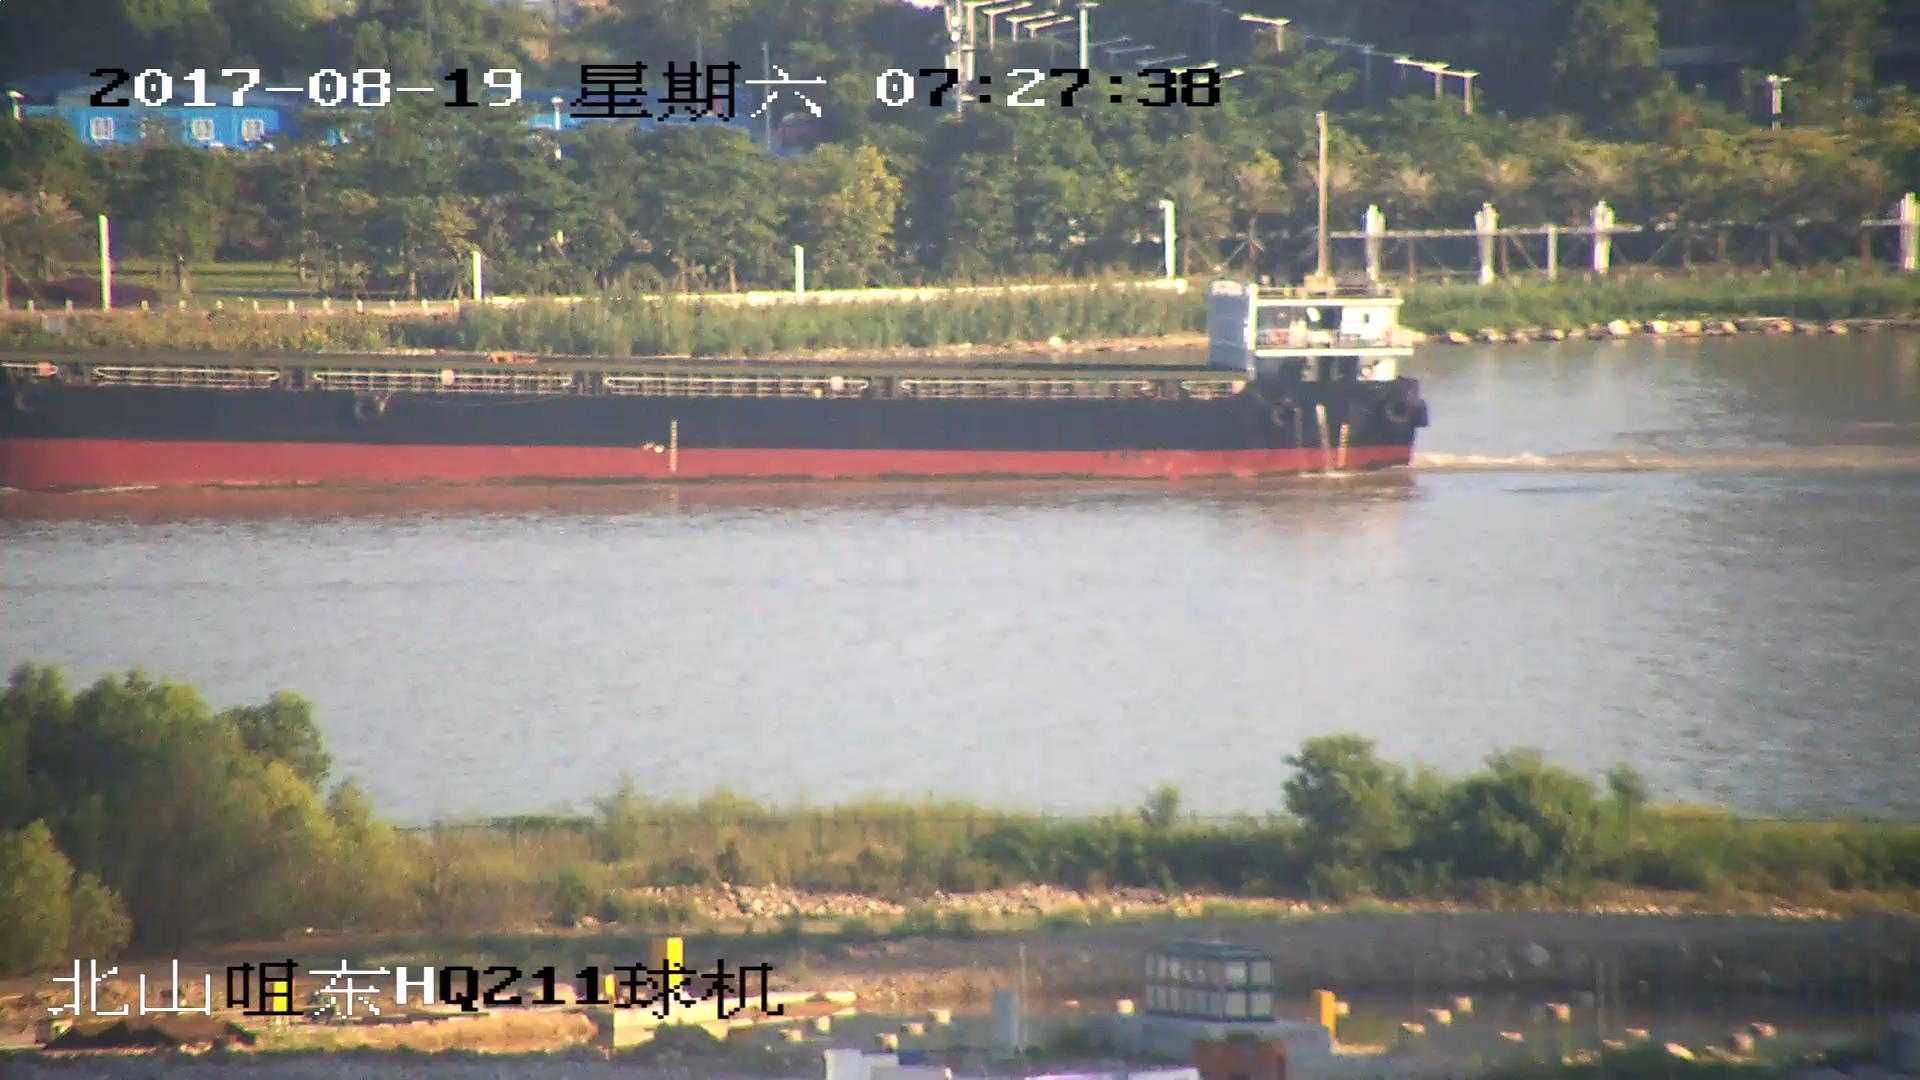Ship: (3, 262, 1432, 489)
